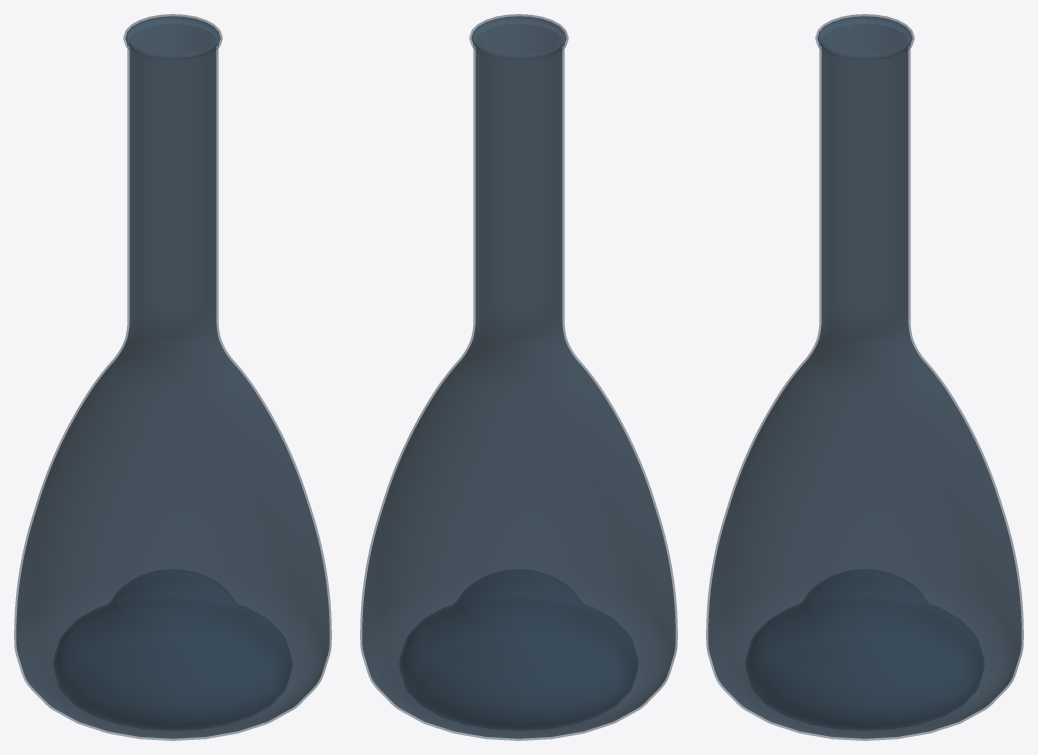
The model's file is Carafe2_Stockholm_Ikea.fbx.
3 views of the same model, side by side, from view 1: azimuth 30°, elevation 25°; view 2: azimuth 150°, elevation 25°; view 3: azimuth 270°, elevation 25° (orthographic).
Parts seen in each view (by area): view 1: Group1; view 2: Group1; view 3: Group1.
Part boxes in pixels (bbox=[...]): Group1: bbox=[14, 14, 331, 740]; Group1: bbox=[360, 14, 677, 740]; Group1: bbox=[706, 14, 1023, 740].
Bounding box in the file's own units: 145 × 330 × 145.
